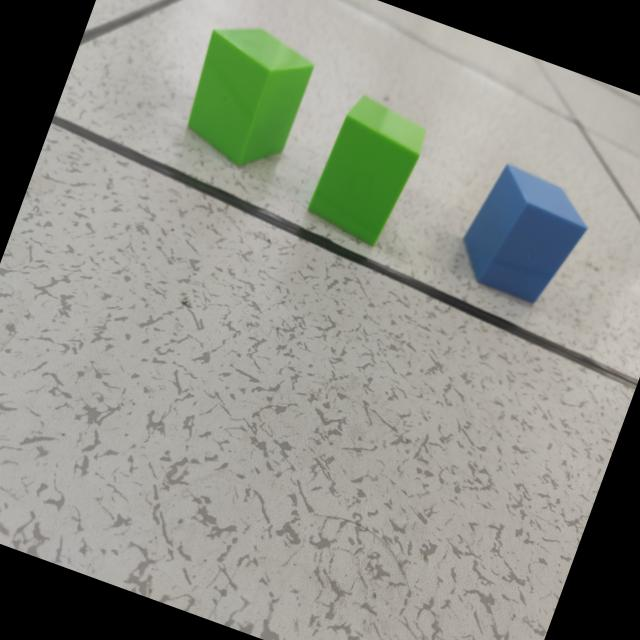blue: (461, 164, 587, 305)
green: (307, 97, 425, 246), (187, 29, 313, 168)
